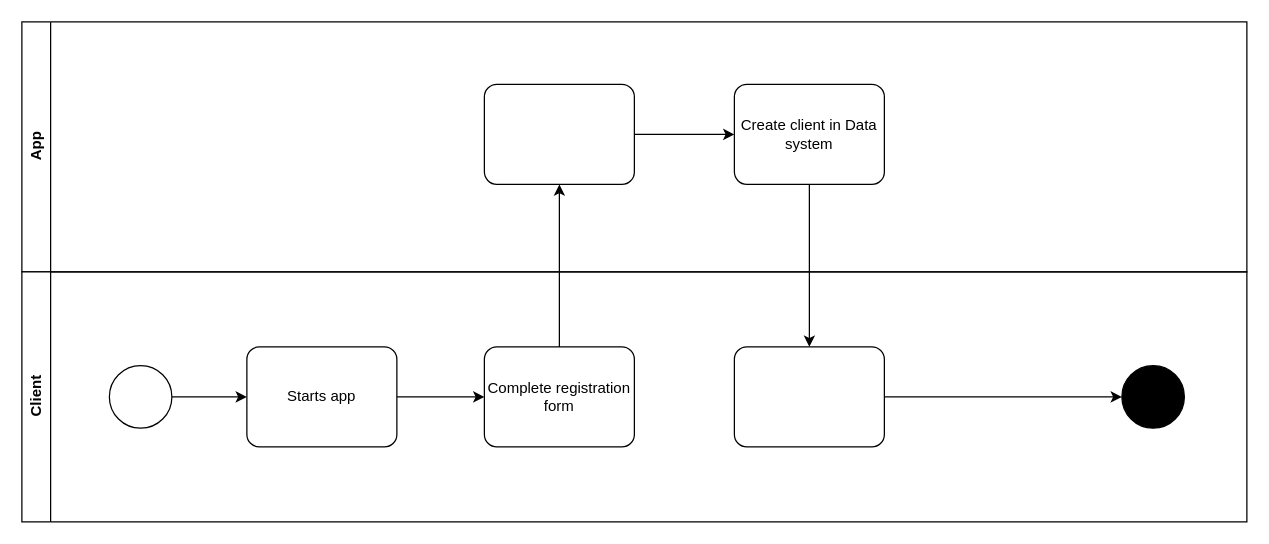
The diagram is 1269 pixels wide and 544 high, and some of its shapes have lost their labels. Here are the shapes that lost their labels. From the top down, the box of each, then its label:
(483, 83, 634, 184): Create user in Authentication system
(733, 346, 884, 447): App is in it's main menu for client
